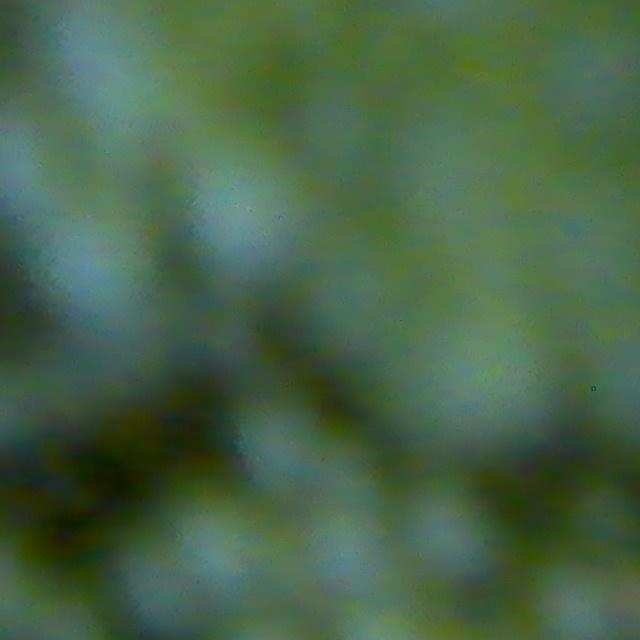SeaGrape: (188, 154, 330, 275), (35, 219, 163, 344), (166, 494, 282, 611), (398, 475, 504, 586), (526, 555, 626, 640), (568, 479, 640, 552)
